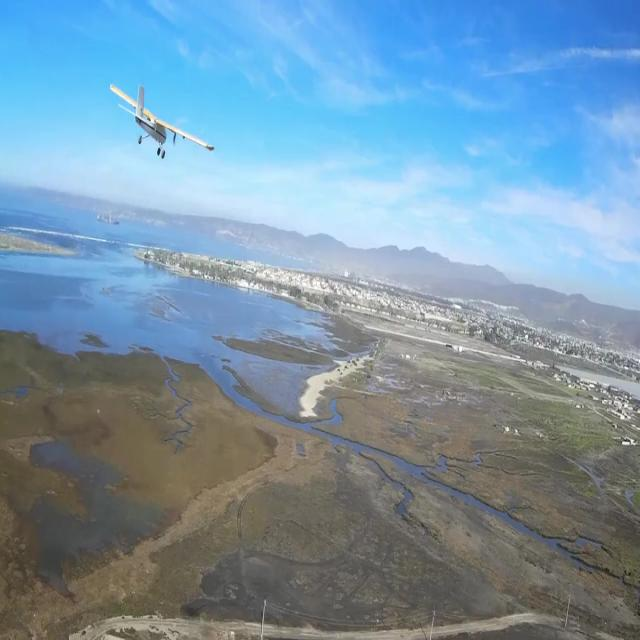iha: (142, 48, 184, 67)
